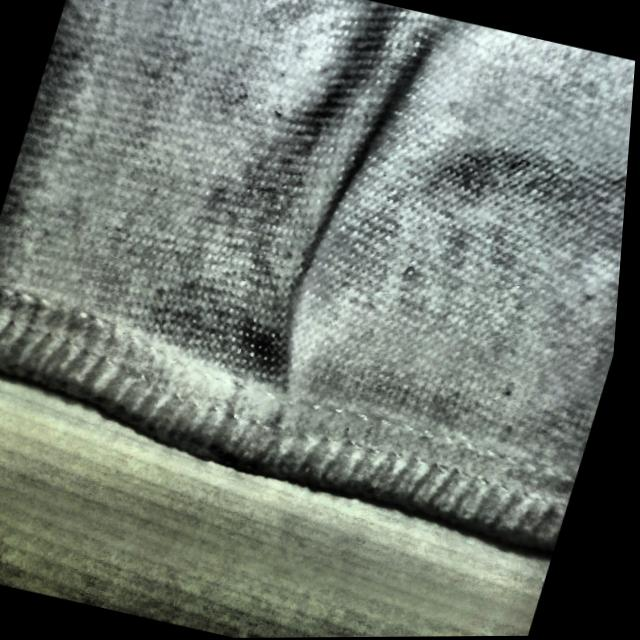seam: (187, 130, 400, 479)
